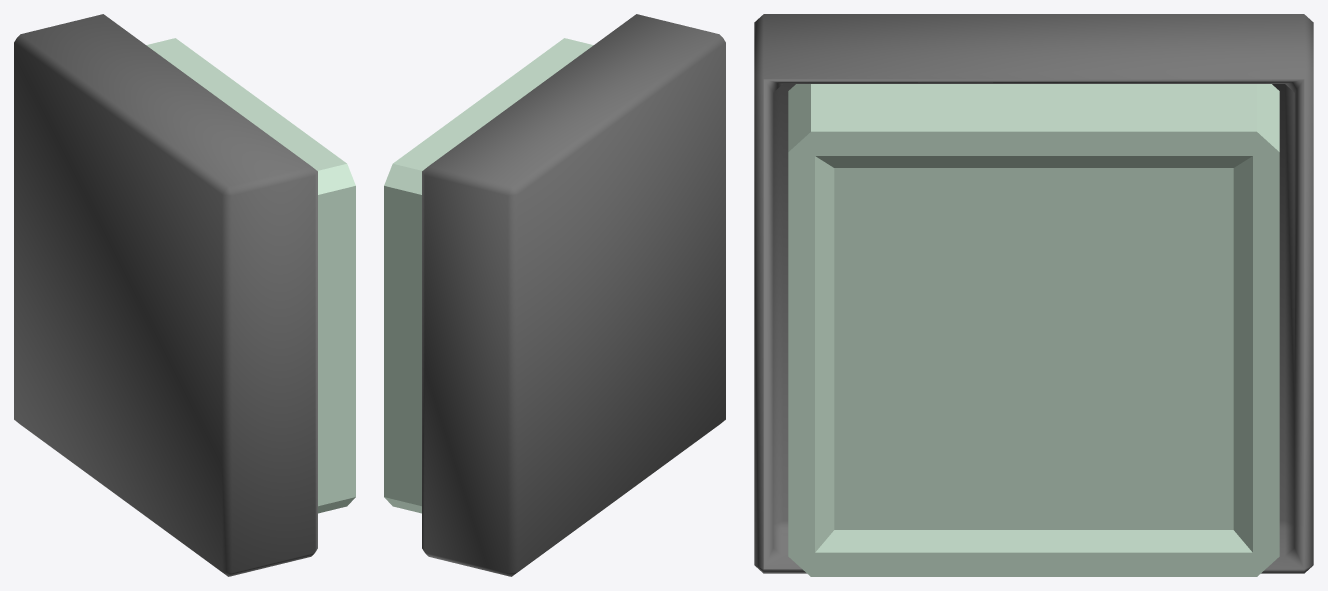
File: KeyPadButton.fbx
The picture shows the model from 3 angles, left to right: view 1: azimuth 30°, elevation 25°; view 2: azimuth 150°, elevation 25°; view 3: azimuth 270°, elevation 25°; orthographic projection. The views are drawn at different scales.
Visible parts, largest first — view 1: Cube, Button; view 2: Cube, Button; view 3: Button, Cube.
Boxes of the visible parts, bbox=[...] form: Cube: bbox=[14, 14, 317, 576]; Button: bbox=[146, 38, 355, 513]; Cube: bbox=[422, 14, 725, 576]; Button: bbox=[384, 38, 593, 513]; Button: bbox=[788, 84, 1279, 576]; Cube: bbox=[754, 14, 1313, 573].
Bounding box in the file's own units: 14.87 × 38.7 × 38.7.
